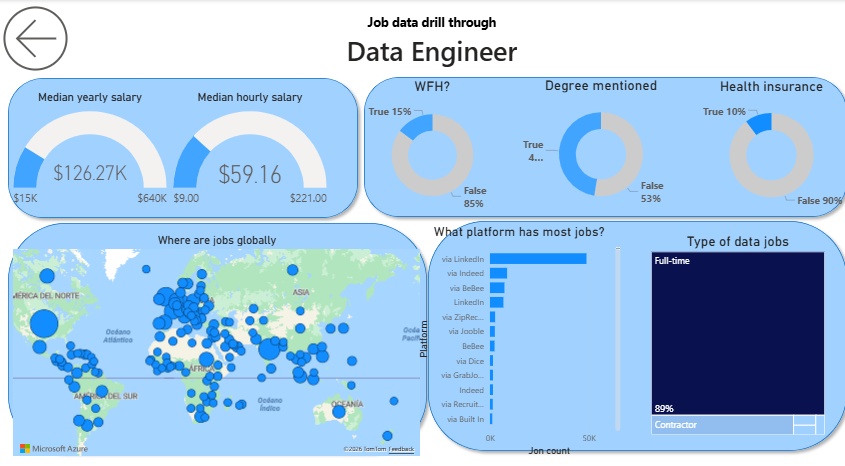

What the dashboard file says about the page in this screenshot:
{"tool":"powerbi","page":{"name":"Drill through","canvas":[1280,720],"ordinal":1},"visuals":[{"type":"group","id":"g1","title":"Group 1","box":[9,107.6,1271.2,579.6],"z":0},{"type":"shape","box":[9,325.7,643.8,361.5],"z":0,"group":"g1"},{"type":"cardVisual","fields":{"Data":["Min(job_postings_flat.job_title_short)"]},"box":[340.6,0,621.4,124],"z":1000},{"type":"shape","box":[540.8,107.6,739.4,227.1],"z":1000,"group":"g1"},{"type":"actionButton","box":[0,0,119.5,118],"z":2000},{"type":"shape","box":[9,109.1,540.7,227.1],"z":2000,"group":"g1"},{"type":"gauge","title":"Median yearly salary","fields":{"Y":["Median(job_postings_flat.salary_year_avg)"],"MinValue":["Min(job_postings_flat.salary_year_avg)1"],"MaxValue":["Max(job_postings_flat.salary_year_avg)2"]},"box":[20.9,135.9,239,189.7],"z":3000},{"type":"shape","box":[636.4,322.7,643.8,361.5],"z":3000,"group":"g1"},{"type":"gauge","title":"Median hourly salary","fields":{"Y":["Median(job_postings_flat.salary_hour_avg)"],"MinValue":["Min(job_postings_flat.salary_hour_avg)"],"MaxValue":["Max(job_postings_flat.salary_hour_avg)"]},"box":[259.9,135.9,239,189.7],"z":4000},{"type":"donutChart","title":"WFH?","fields":{"Y":["CountNonNull(job_postings_flat.job_work_from_home)"],"Category":["job_postings_flat.job_work_from_home"]},"box":[540.7,118,222.6,207.6],"z":5000},{"type":"donutChart","title":"Degree mentioned","fields":{"Y":["CountNonNull(job_postings_flat.job_work_from_home)"],"Category":["job_postings_flat.job_no_degree_mention"]},"box":[782.7,116.5,242,207.6],"z":6000},{"type":"donutChart","title":"Health insurance ","fields":{"Y":["CountNonNull(job_postings_flat.job_work_from_home)"],"Category":["job_postings_flat.job_health_insurance"]},"box":[1036.7,118,243.5,207.6],"z":7000},{"type":"azureMap","title":"Where are jobs globally","fields":{"Category":["job_postings_flat.job_country"],"Size":["CountNonNull(job_postings_flat.job_title_short)"]},"box":[20.9,349.5,618.4,337.6],"z":8000},{"type":"treemap","title":"Type of data jobs","fields":{"Values":["CountNonNull(job_postings_flat.job_schedule_type)"],"Group":["job_postings_flat.job_schedule_type"]},"box":[973.9,349.5,268.9,306.2],"z":9000},{"type":"barChart","title":"What platform has most jobs?","fields":{"Category":["job_postings_flat.job_via"],"Y":["CountNonNull(job_postings_flat.job_via)"]},"box":[625.9,336.1,312.2,351],"z":10000}]}

Visuals, with their boxes in screenshot pixels (x1, y1, x2, y2), scaled from the page's 1280x720 canvas onto the 845x466 screenshot:
"Group 1" group: BBox(6, 70, 844, 445)
shape: BBox(6, 211, 431, 445)
cardVisual - Min(job_postings_flat.job_title_short): BBox(225, 0, 635, 80)
shape: BBox(357, 70, 844, 217)
actionButton: BBox(0, 0, 79, 76)
shape: BBox(6, 71, 363, 218)
"Median yearly salary" gauge: BBox(14, 88, 172, 211)
shape: BBox(420, 209, 844, 443)
"Median hourly salary" gauge: BBox(172, 88, 329, 211)
"WFH?" donutChart: BBox(357, 76, 504, 211)
"Degree mentioned" donutChart: BBox(517, 75, 676, 210)
"Health insurance " donutChart: BBox(684, 76, 844, 211)
"Where are jobs globally" azureMap: BBox(14, 226, 422, 445)
"Type of data jobs" treemap: BBox(643, 226, 820, 424)
"What platform has most jobs?" barChart: BBox(413, 218, 619, 445)
